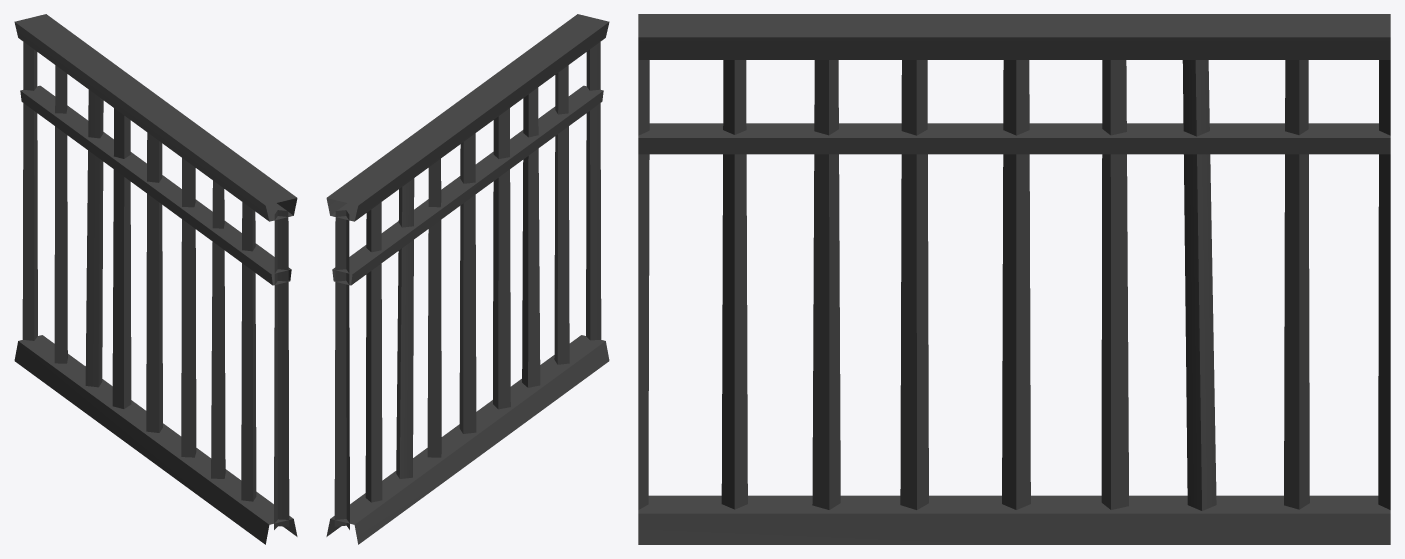
The model's file is Prison_Wall.fbx.
3 renders of one model, left to right at view 1: azimuth 30°, elevation 25°; view 2: azimuth 150°, elevation 25°; view 3: azimuth 270°, elevation 25°, orthographic. The views are drawn at different scales.
Parts seen in each view (by area): view 1: Prison_Wall; view 2: Prison_Wall; view 3: Prison_Wall.
Boxes of the visible parts, x1,y1,x2,y2 form: Prison_Wall: (14, 14, 297, 544); Prison_Wall: (326, 14, 609, 544); Prison_Wall: (638, 14, 1390, 544).
Bounding box in the file's own units: 7.31 × 74.5 × 100.
